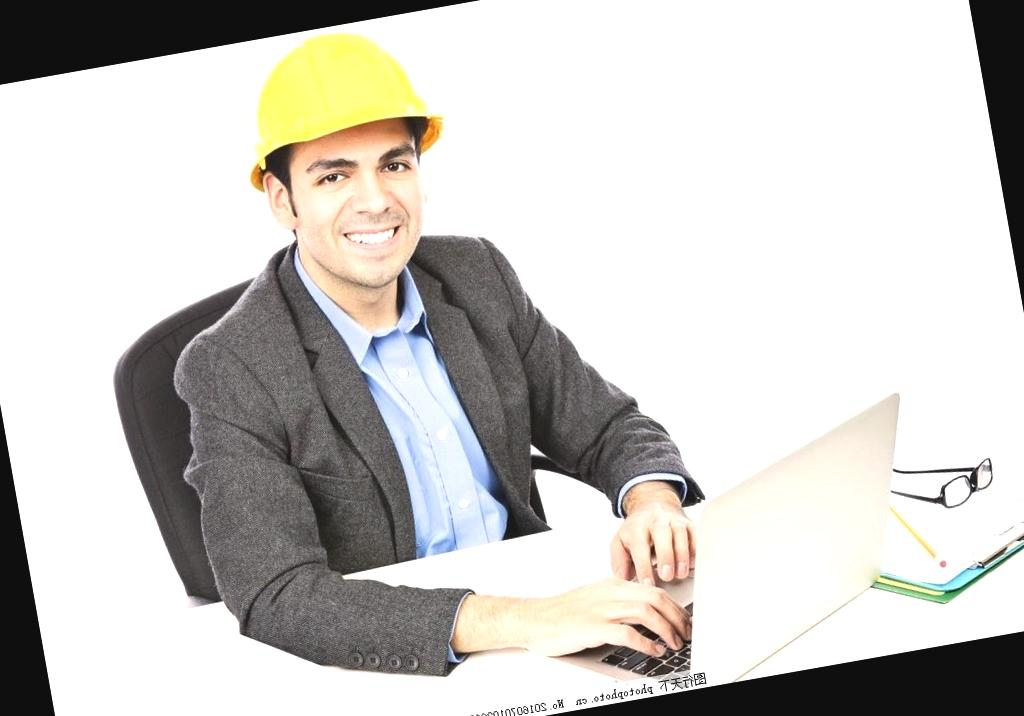helmet: (220, 11, 472, 191)
no_vest: (190, 234, 581, 578)
person: (135, 2, 634, 716)
